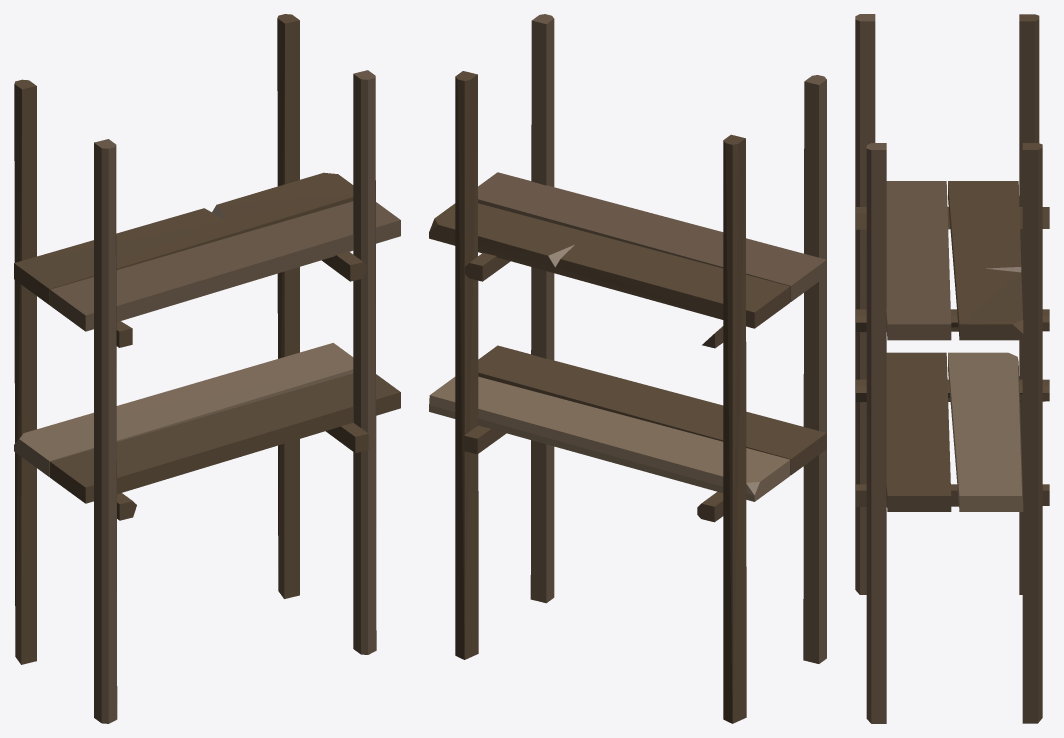
Rendered from EA03_Prop_House_Shelf_01c.glb.
The picture shows the model from 3 angles, left to right: view 1: azimuth 30°, elevation 25°; view 2: azimuth 150°, elevation 25°; view 3: azimuth 270°, elevation 25°; orthographic projection.
Visible parts, largest first — view 1: EA03_Prop_House_Shelf_01c; view 2: EA03_Prop_House_Shelf_01c; view 3: EA03_Prop_House_Shelf_01c.
Part boxes in pixels (x1=…): EA03_Prop_House_Shelf_01c: x1=14, y1=14, x2=400, y2=723; EA03_Prop_House_Shelf_01c: x1=429, y1=14, x2=826, y2=723; EA03_Prop_House_Shelf_01c: x1=855, y1=14, x2=1049, y2=723.
Size of the model in its own units: 1.4 by 2.39 by 0.7349.
1 material, 1 textured.
